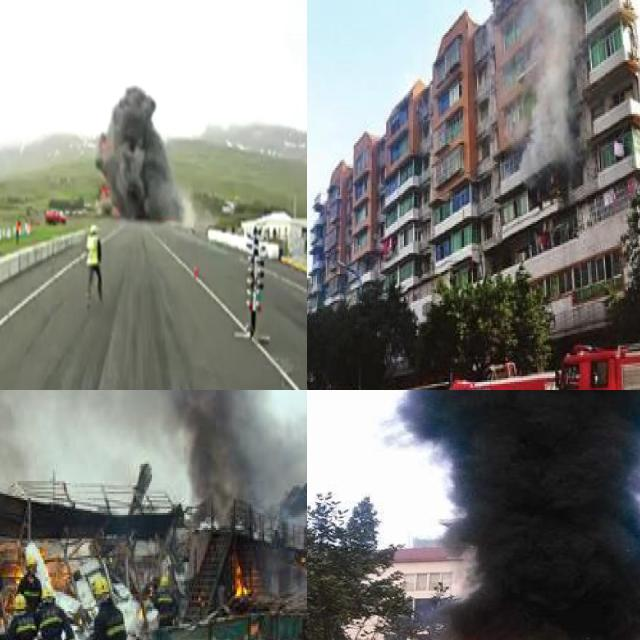fire: (228, 556, 250, 598), (10, 560, 22, 579)
smoke: (373, 390, 640, 640), (0, 390, 307, 528), (101, 85, 171, 215), (524, 0, 580, 160)
